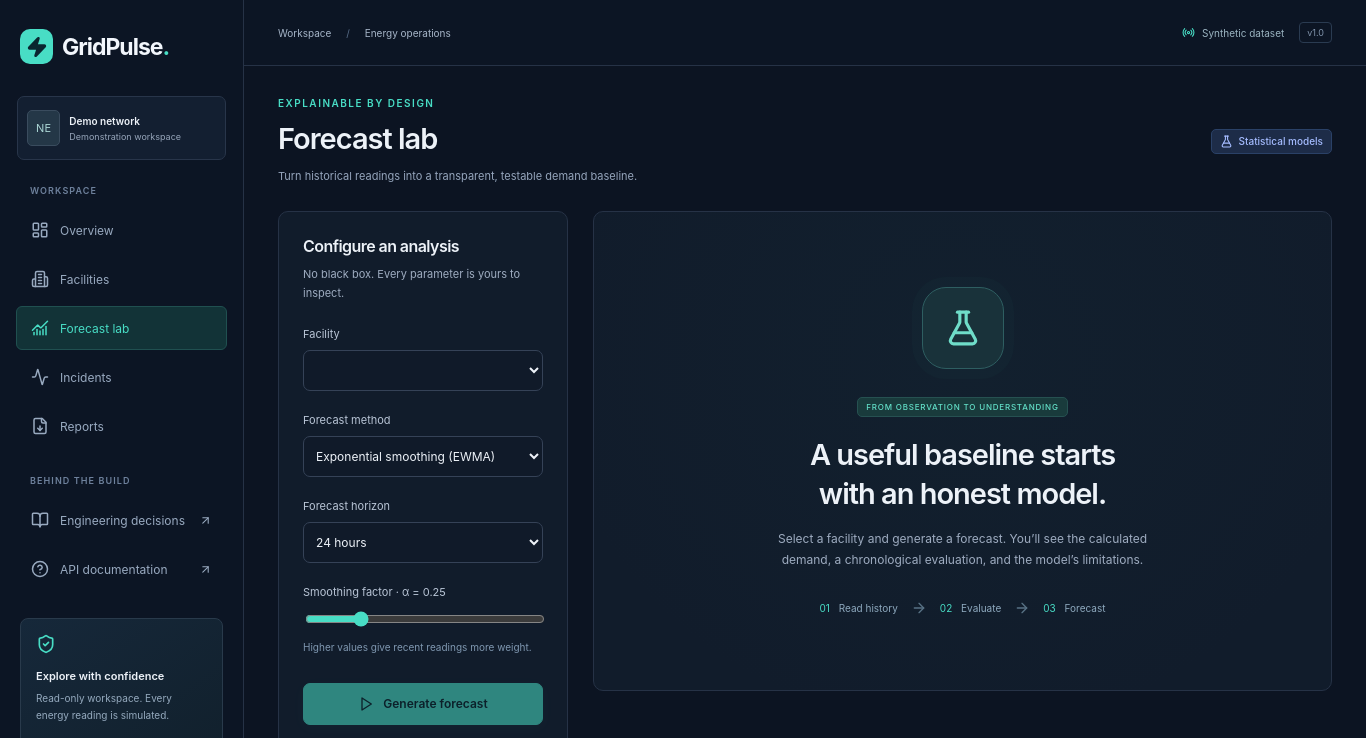
Test: Operations interface with mocked API transport › waits for a linked forecast facility to load before enabling submission
Click the button "Generate forecast" at (423, 704), box [303,683,543,725]
(page scrolled)
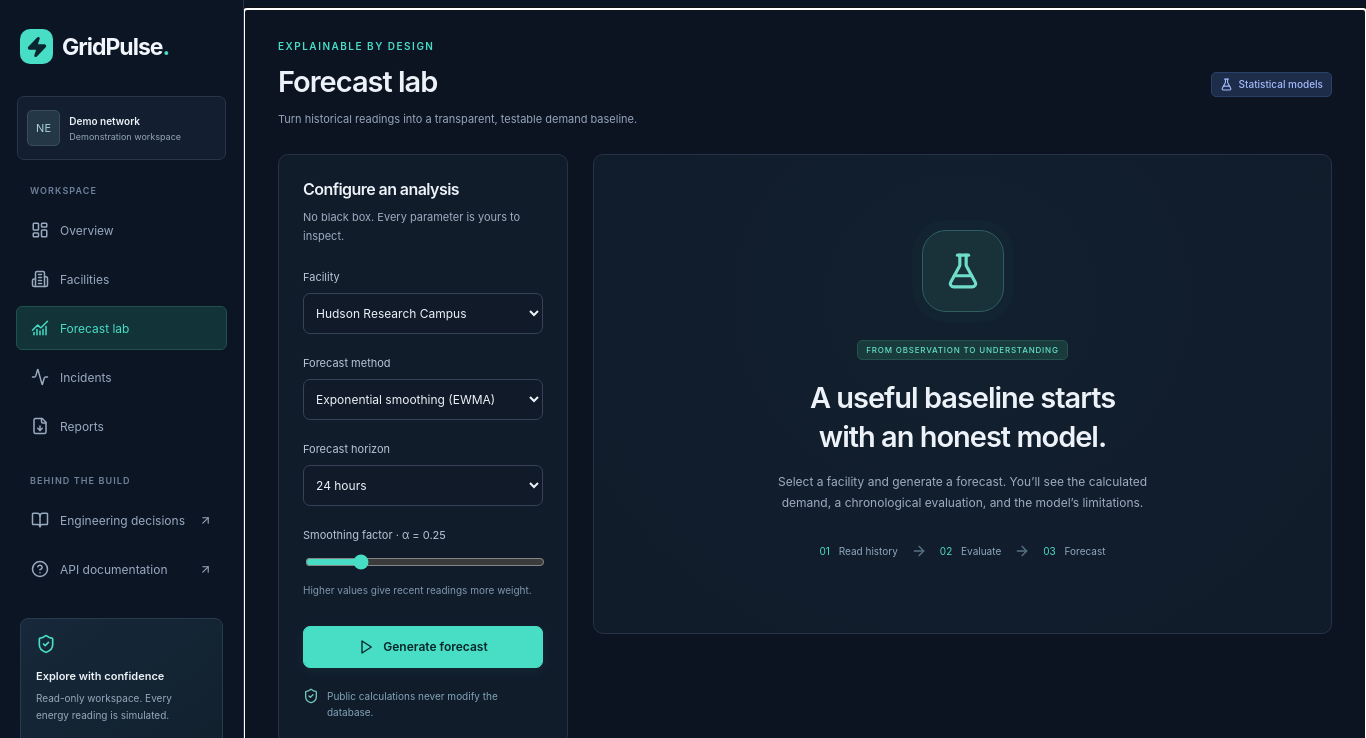
Expected: the button "Generate forecast" is enabled
Click the button "Generate forecast" at (423, 647), box [303,626,543,668]
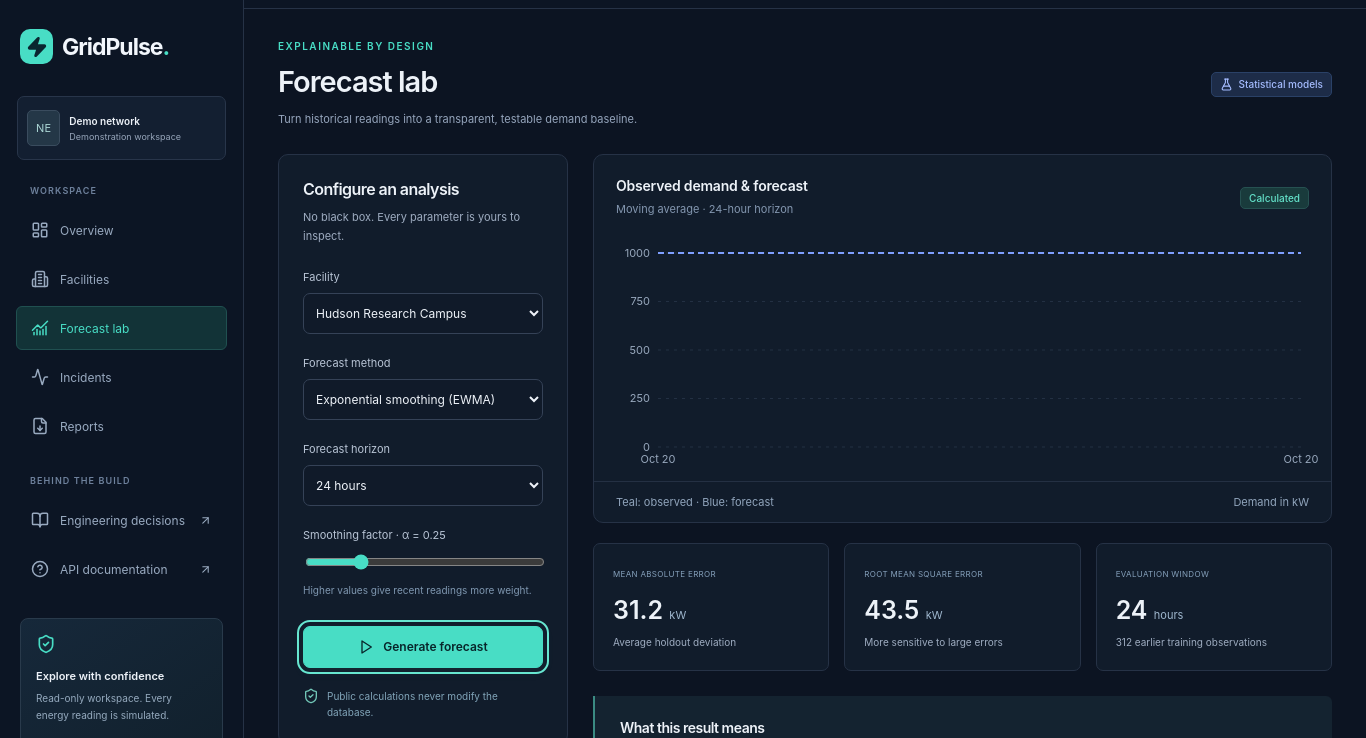
Expected: the text "31.2" is shown, [613,595,663,625]
